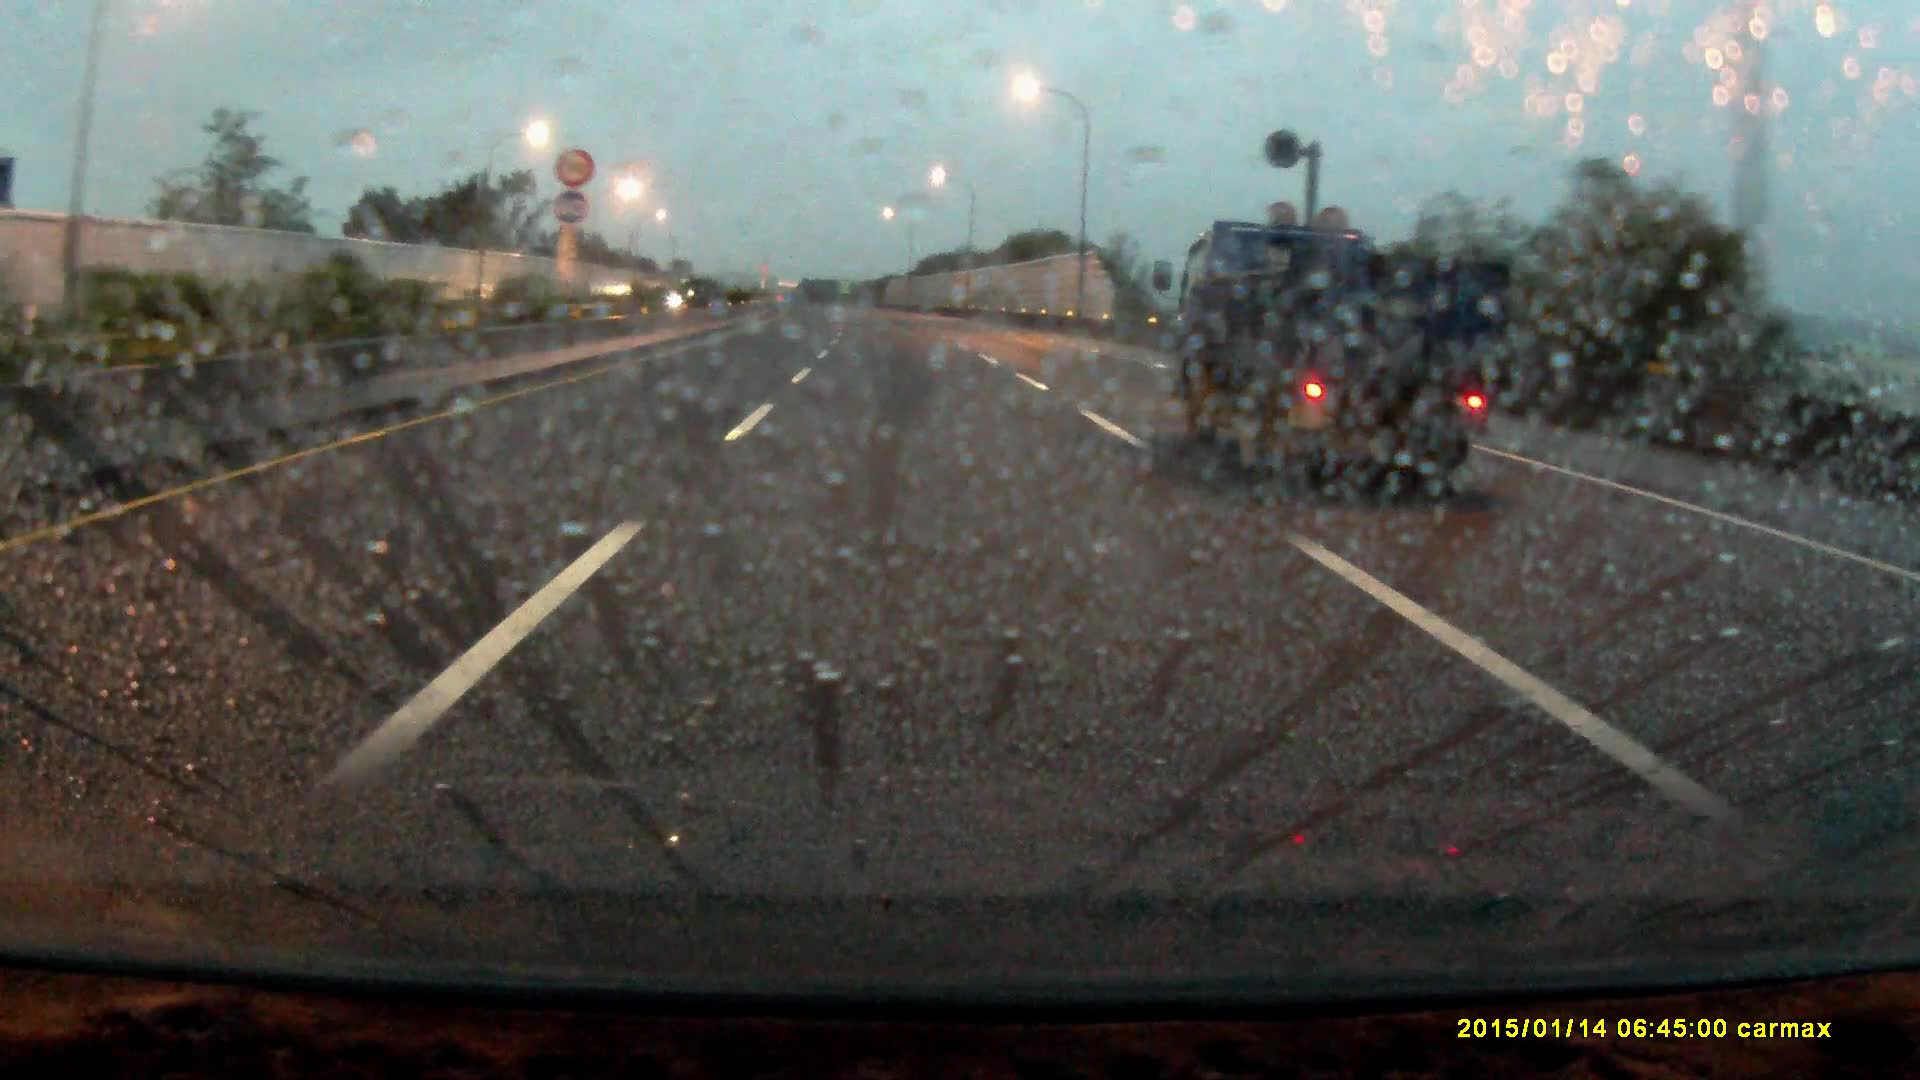vehicle: (1199, 206, 1520, 517)
